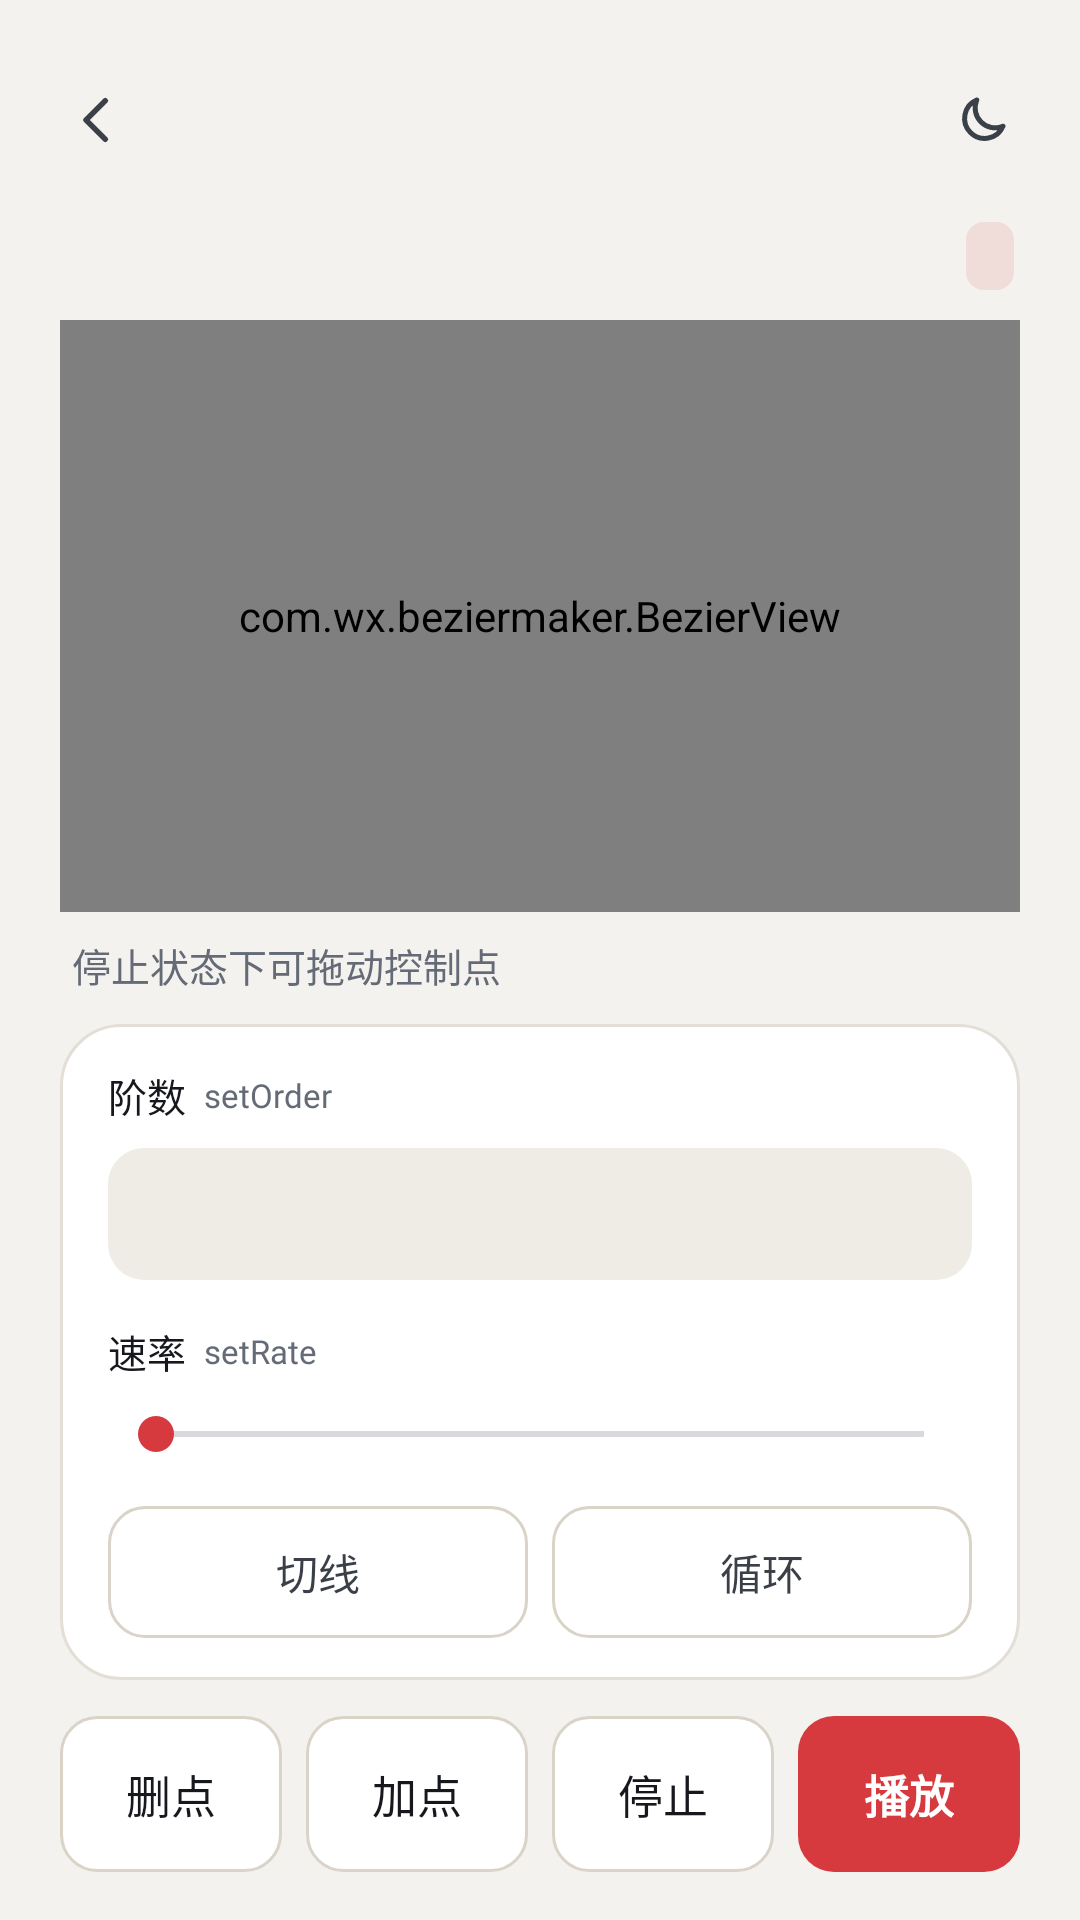

Named icons in this screenshot (1080*1920) and their bounding boxes, (x1, y1, x2, y2):
切换到深色: (962, 97, 1006, 141)
返回: (83, 98, 108, 142)
